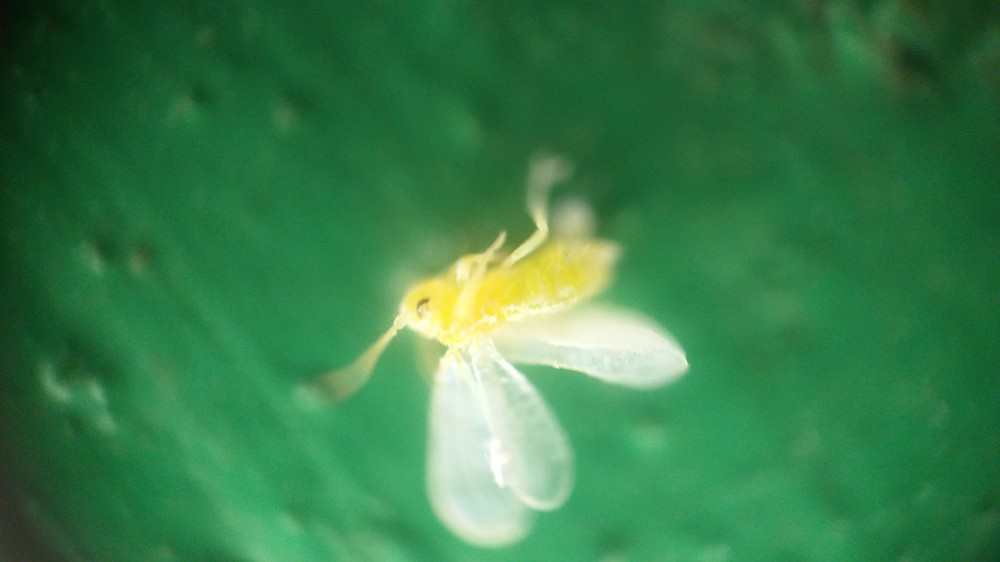Mosca Blanca: (282, 146, 721, 554)
